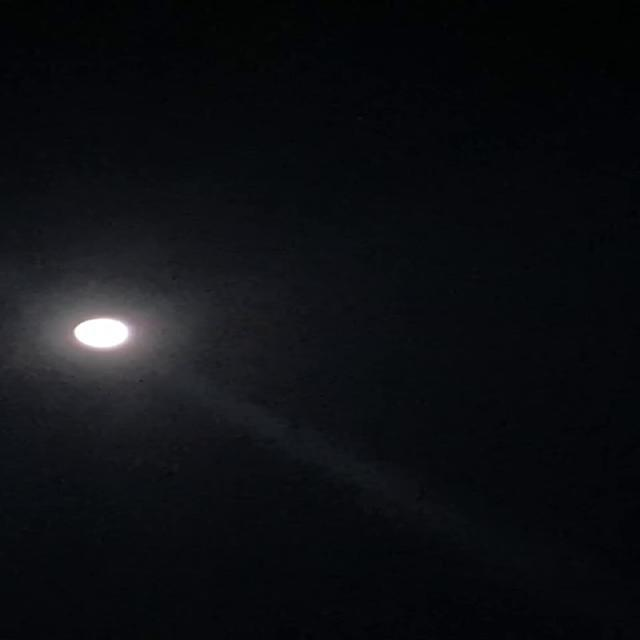moon: (49, 310, 140, 356)
